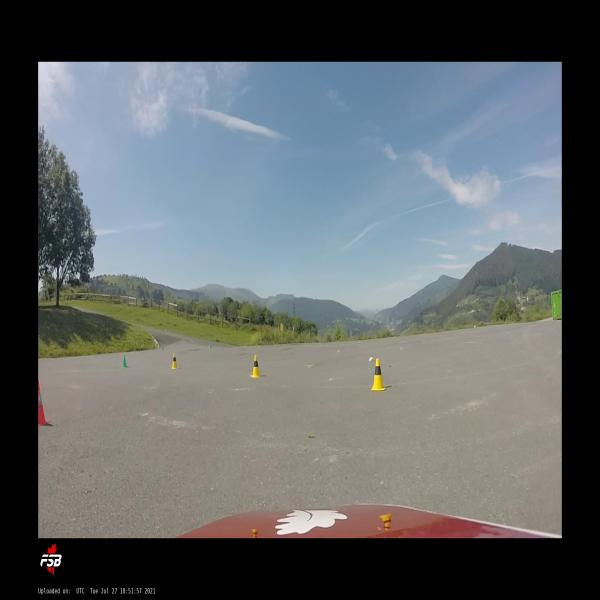orange_cone: (38, 381, 50, 426)
unknown_cone: (122, 355, 127, 368), (161, 345, 164, 350), (209, 342, 211, 348)
yellow_cone: (371, 358, 385, 390), (250, 356, 260, 378), (171, 354, 178, 370)
